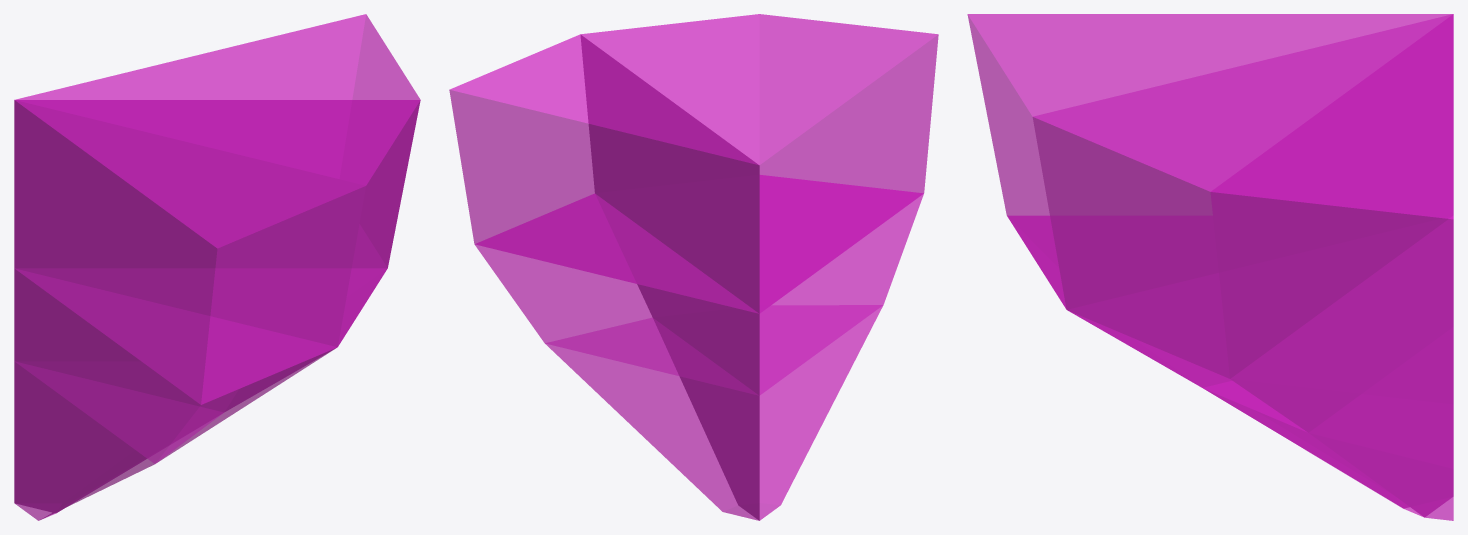
File: SM_Bld_Wall_L_Curve_Base_02_Collision.fbx
3 views of the same model, side by side, from view 1: azimuth 30°, elevation 25°; view 2: azimuth 150°, elevation 25°; view 3: azimuth 270°, elevation 25° (orthographic). The views are drawn at different scales.
Visible parts, largest first — view 1: SM_Bld_Wall_L_Curve_Base_02_Collision; view 2: SM_Bld_Wall_L_Curve_Base_02_Collision; view 3: SM_Bld_Wall_L_Curve_Base_02_Collision.
Part boxes in pixels (left/top/right/bottom): SM_Bld_Wall_L_Curve_Base_02_Collision: left=14, top=14, right=420, bottom=520; SM_Bld_Wall_L_Curve_Base_02_Collision: left=449, top=14, right=938, bottom=520; SM_Bld_Wall_L_Curve_Base_02_Collision: left=967, top=14, right=1453, bottom=520.
Bounding box in the file's own units: 361 × 395 × 361.
